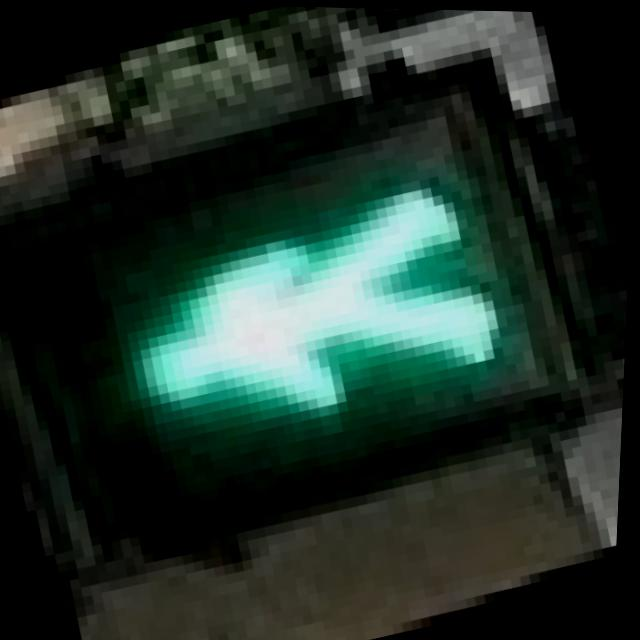green_light: (43, 61, 604, 545)
